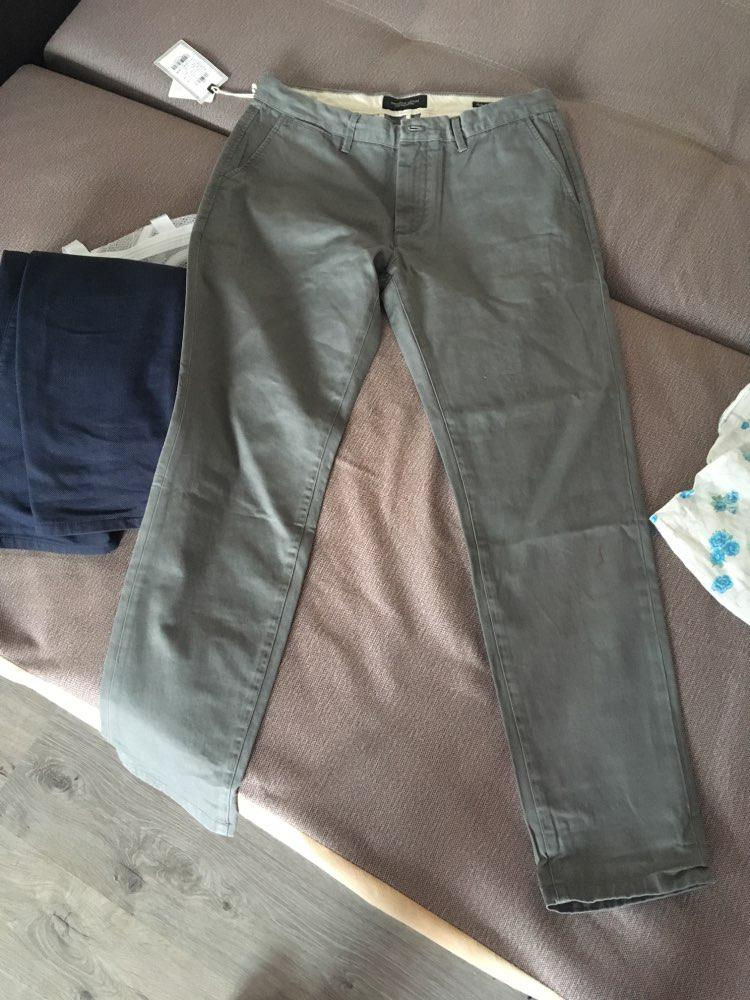pants: (116, 72, 717, 908)
